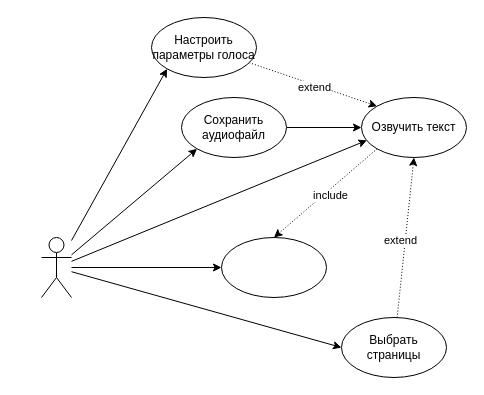
Some shapes in this 484 by 395 pixel diagram are drawn without their labels. The shapes that lost their labels are listed below. From the top down, each one's centre as x and y in pixels, then its label:
At point 56,267: "Пользователь".
At point 273,267: "Загрузить PDF файл".
